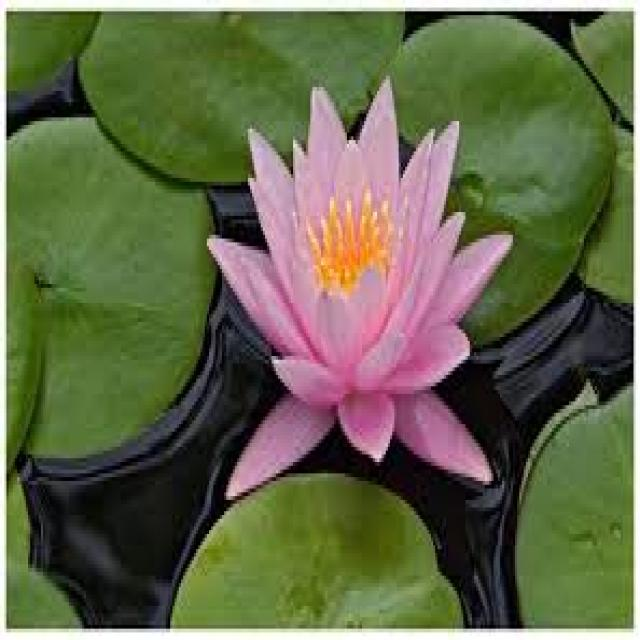lotus: (198, 68, 518, 526)
